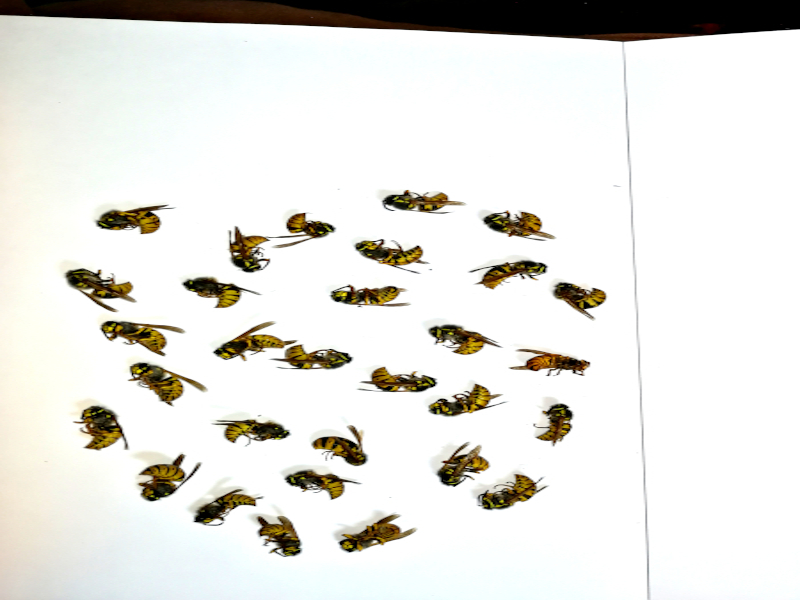chax: (63, 394, 139, 467), (478, 196, 572, 253), (176, 478, 267, 535), (122, 355, 208, 415), (84, 192, 181, 244), (53, 255, 146, 309), (133, 445, 202, 515), (371, 180, 472, 227), (500, 342, 599, 388), (94, 314, 184, 364), (471, 467, 557, 519), (221, 217, 280, 290), (351, 228, 440, 276), (207, 319, 291, 369), (210, 407, 301, 453), (308, 414, 380, 470), (170, 273, 261, 317), (319, 279, 426, 316), (278, 332, 354, 384), (339, 515, 416, 566), (419, 319, 508, 363), (364, 356, 442, 404), (429, 381, 507, 428), (243, 513, 311, 565), (273, 203, 339, 256), (473, 254, 556, 296), (279, 467, 366, 507), (550, 274, 620, 322), (428, 433, 487, 487), (523, 396, 580, 451)
